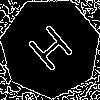H: (25, 22, 82, 81)
